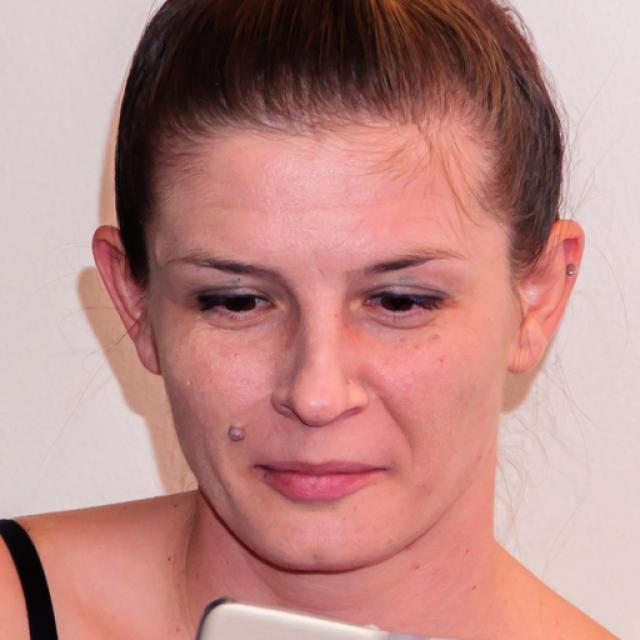Acne: (215, 420, 251, 453)
